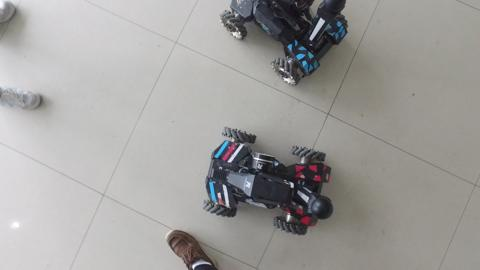chariot: (202, 126, 342, 235), (219, 1, 352, 85)
